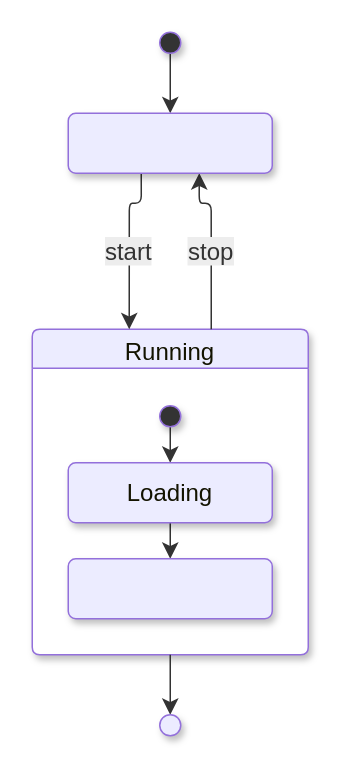
Image size: 344x773. Some labels were removed from this diagram. The shapes that lost their labels are listed below. From the top down, each one's centre as x and y in pixels, then its label:
the point at 171,145: Idle
the point at 171,590: Ready
